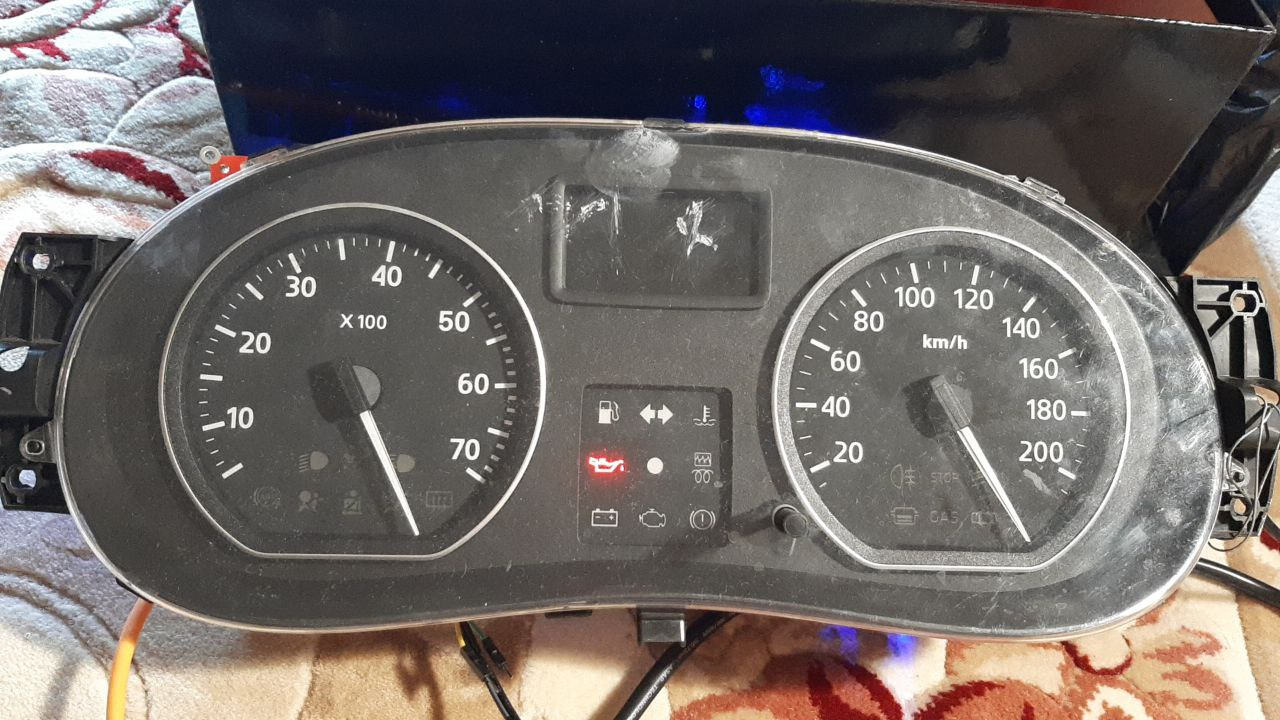oil: (580, 451, 631, 479)
